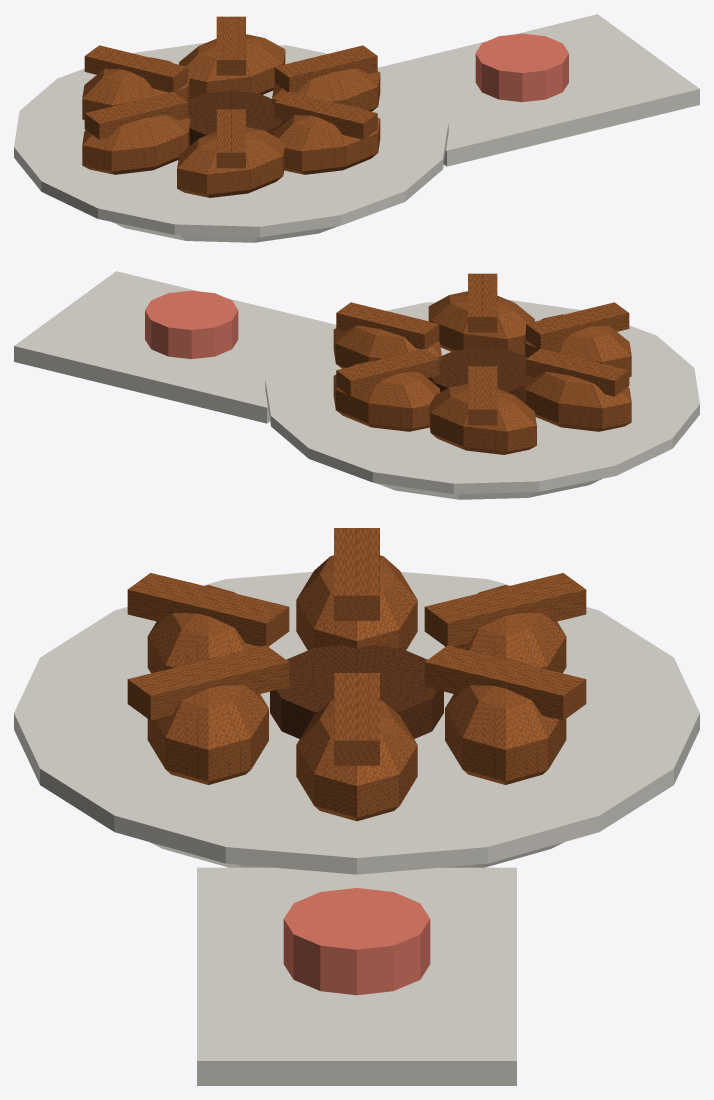
Rendered from gyoza_plate.glb.
3 renders of one model, top to bottom at view 1: azimuth 30°, elevation 25°; view 2: azimuth 150°, elevation 25°; view 3: azimuth 270°, elevation 25°, orthographic. The views are drawn at different scales.
Visible parts, largest first — view 1: gyoza-plate-cream, gyoza-plate-timber, gyoza-plate-vermilion, gyoza-plate-darkwood; view 2: gyoza-plate-cream, gyoza-plate-timber, gyoza-plate-vermilion, gyoza-plate-darkwood; view 3: gyoza-plate-cream, gyoza-plate-timber, gyoza-plate-vermilion, gyoza-plate-darkwood.
Boxes of the visible parts, box(x1,y1,x2,y2) form: gyoza-plate-cream: box(14, 14, 699, 242); gyoza-plate-timber: box(82, 16, 380, 197); gyoza-plate-vermilion: box(475, 33, 568, 102); gyoza-plate-darkwood: box(186, 90, 286, 145); gyoza-plate-cream: box(14, 271, 699, 499); gyoza-plate-timber: box(333, 273, 631, 454); gyoza-plate-vermilion: box(145, 290, 238, 359); gyoza-plate-darkwood: box(427, 347, 527, 402); gyoza-plate-cream: box(14, 572, 699, 1085); gyoza-plate-timber: box(127, 528, 586, 821); gyoza-plate-vermilion: box(283, 888, 430, 995); gyoza-plate-darkwood: box(270, 645, 443, 738).
Size of the model in its own units: 0.48 by 0.064 by 0.3.
Materials: 4 (2 with a texture image).
